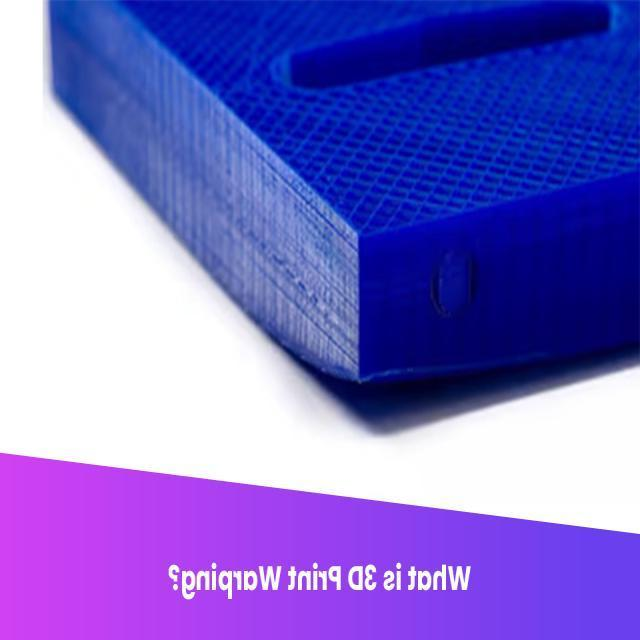Warping: (278, 306, 526, 438)
